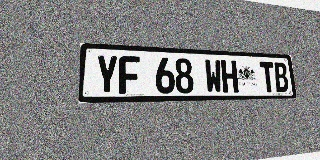6: (155, 57, 175, 94)
8: (174, 58, 194, 93)
B: (273, 62, 289, 92)
F: (119, 56, 140, 94)
H: (221, 60, 239, 93)
T: (259, 62, 276, 92)
W: (204, 59, 223, 93)
Y: (95, 55, 118, 94)
